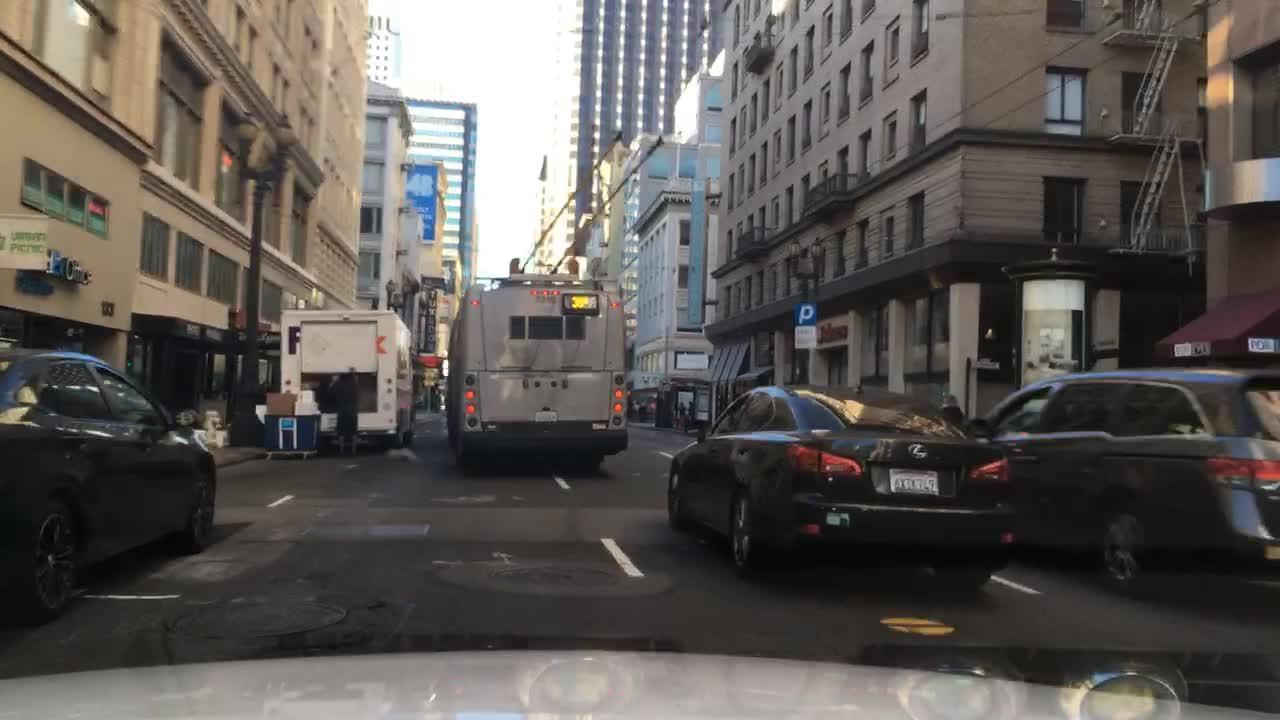lexus: (901, 437, 937, 469)
